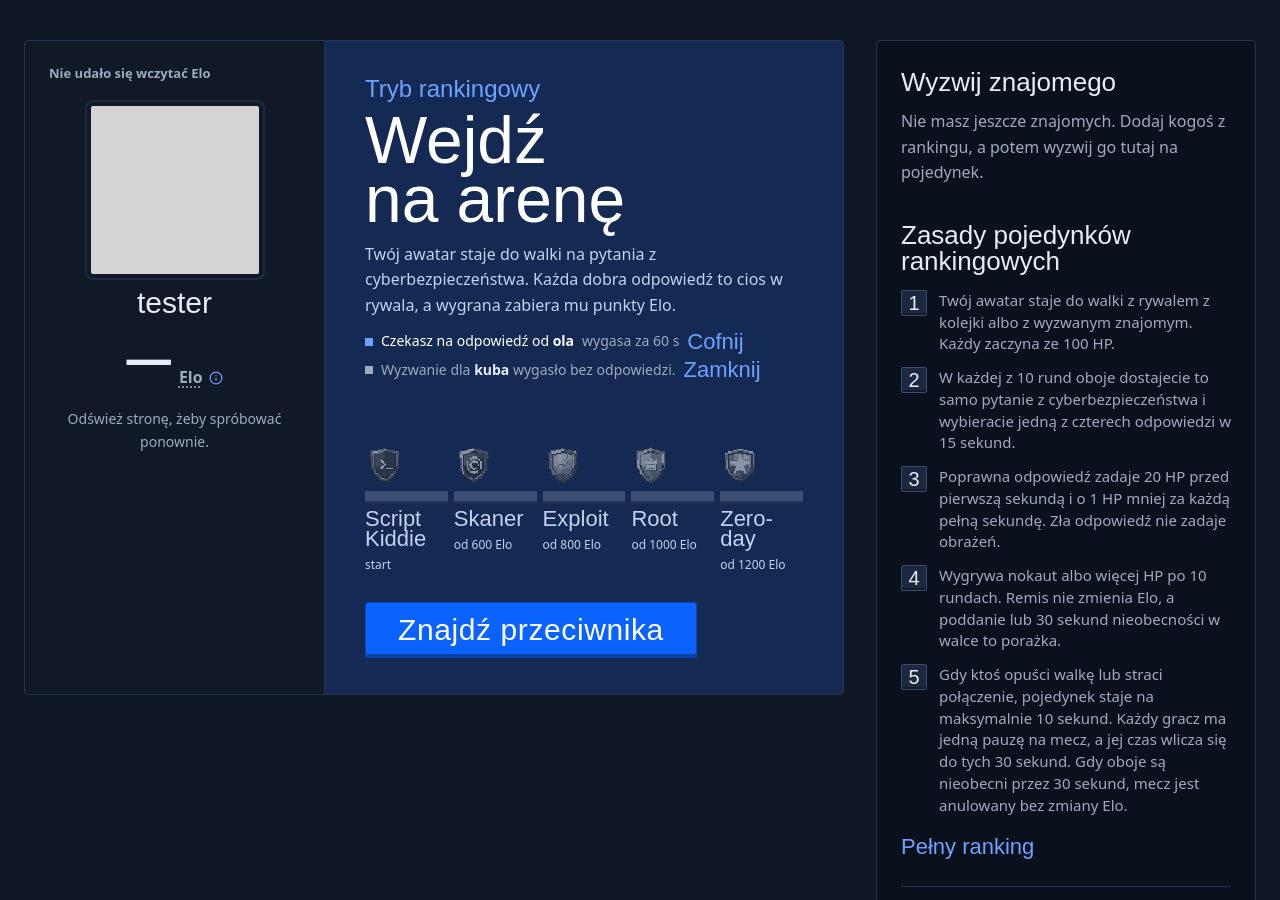
Scenario: explains why an expired challenge could not be taken back or its note closed
Click the button "Cofnij".
click(716, 342)  # box [687,331,744,353]
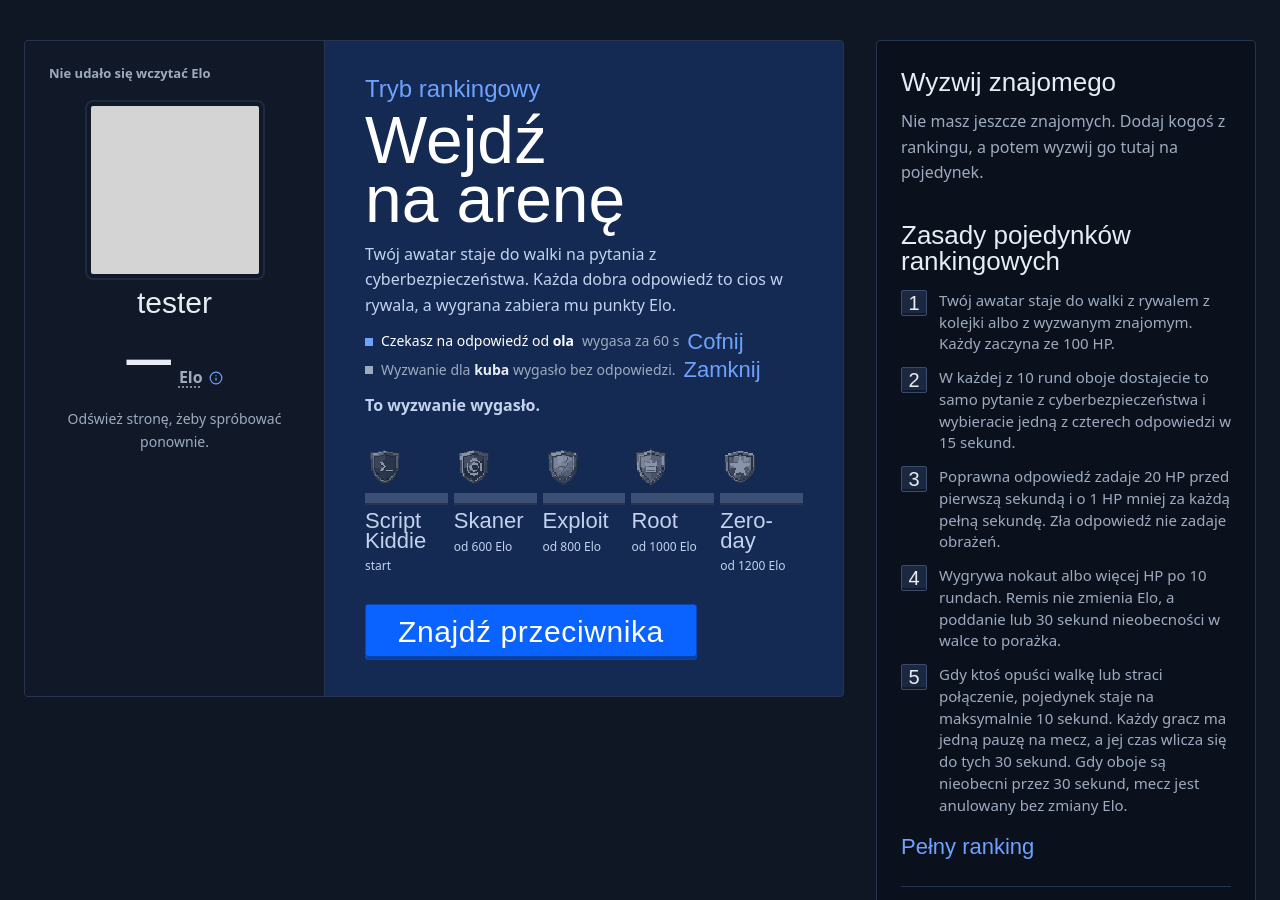
Check: the message "To wyzwanie wygasło." is shown, box [365,394,540,416]
Click the button "Zamknij".
click(722, 370)  # box [684,359,760,381]
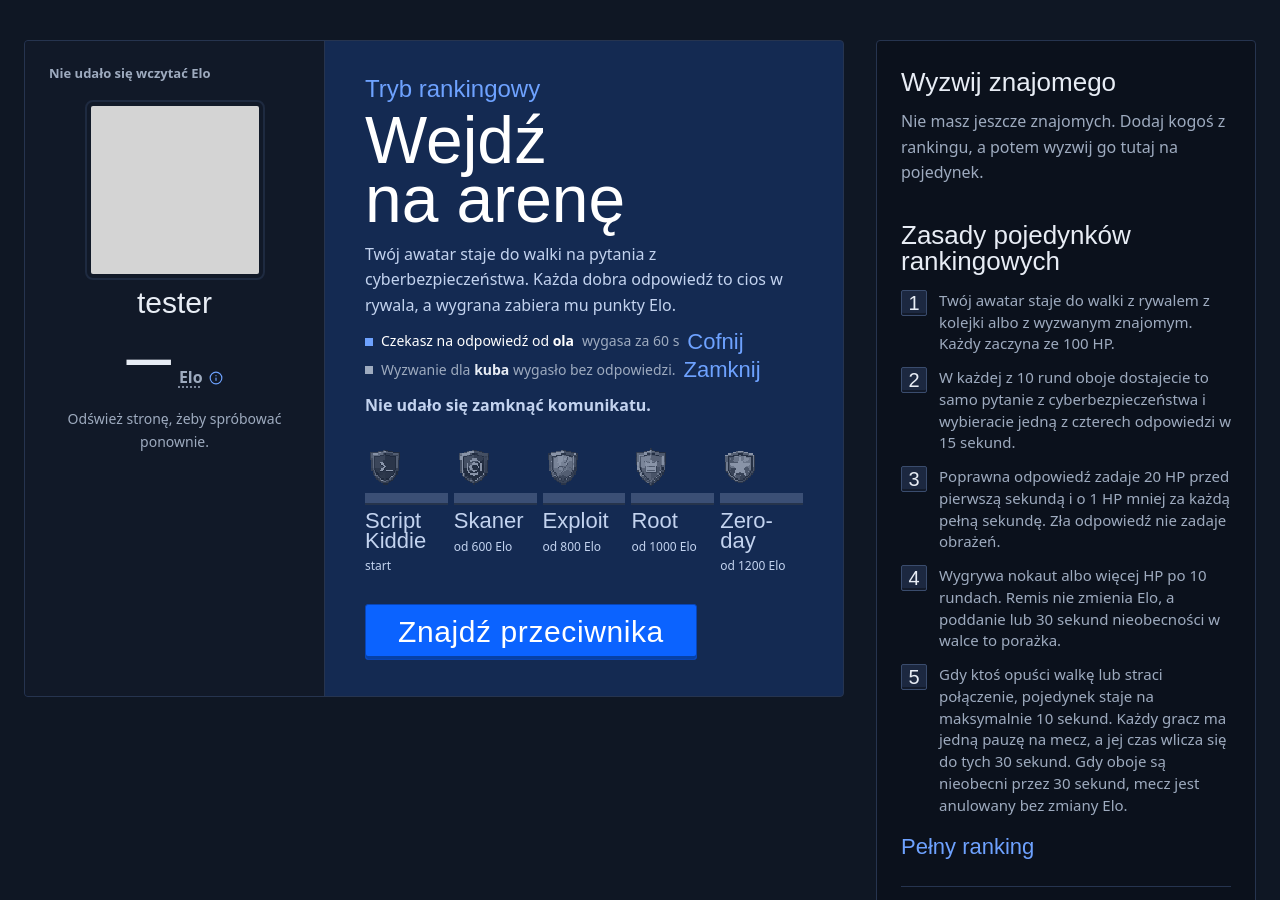
Check: the text "Nie udało się zamknąć komunikatu." is shown, box [365,394,651,416]
